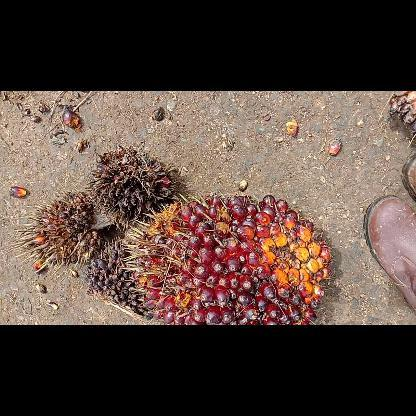TBS abnormal: (81, 144, 182, 228), (13, 188, 103, 278), (84, 236, 160, 322)
TBS masak: (123, 191, 337, 324)
